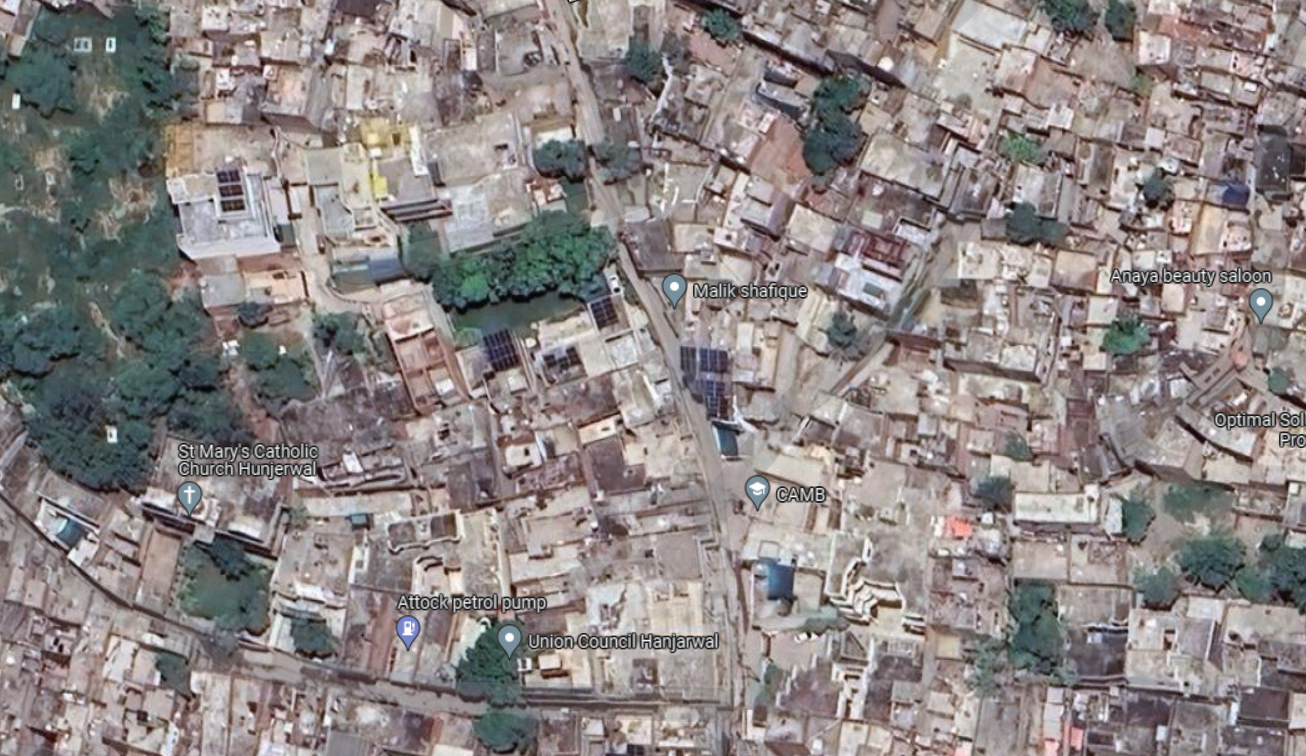solar-panel: (214, 167, 247, 216), (483, 326, 514, 368), (682, 345, 726, 373), (700, 378, 726, 415), (593, 297, 620, 325)
